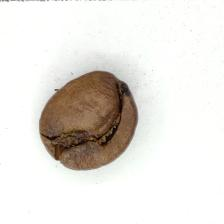NG: (45, 81, 131, 159)
